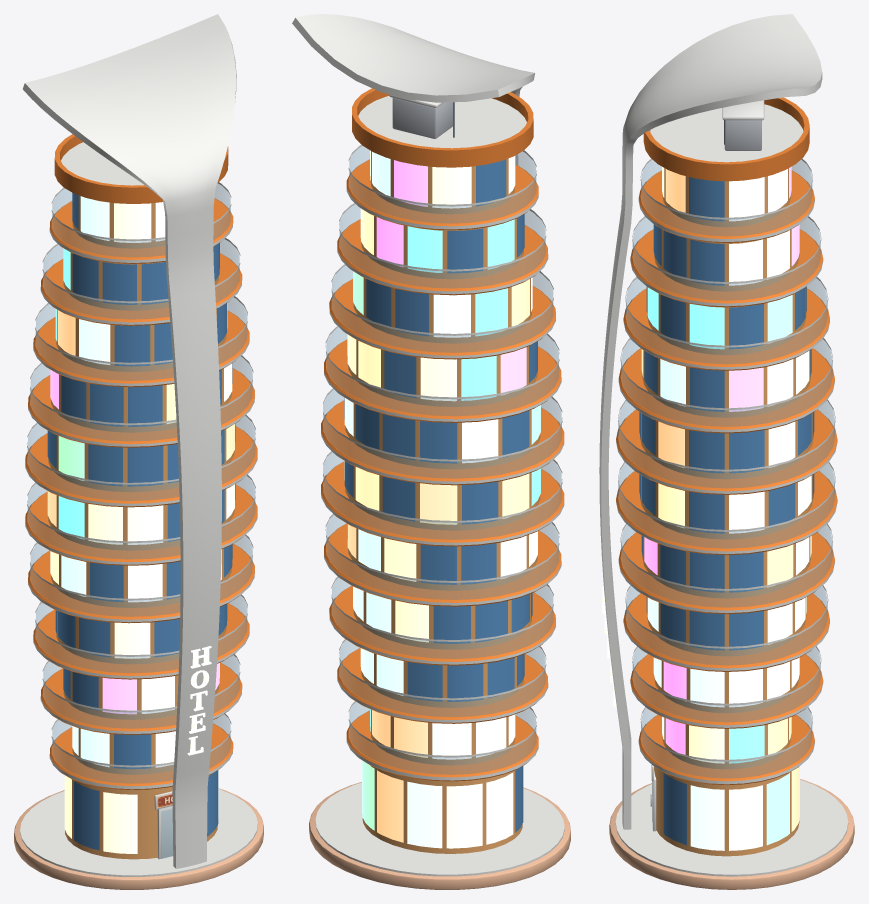
File: torre_vela_laranja.glb
3 views of the same model, side by side, from view 1: azimuth 30°, elevation 25°; view 2: azimuth 150°, elevation 25°; view 3: azimuth 270°, elevation 25° (orthographic). The views are drawn at different scales.
Visible parts, largest first — view 1: torre_vela_laranja; view 2: torre_vela_laranja; view 3: torre_vela_laranja.
Boxes of the visible parts, bbox=[...] form: torre_vela_laranja: bbox=[14, 14, 263, 889]; torre_vela_laranja: bbox=[292, 14, 570, 889]; torre_vela_laranja: bbox=[599, 14, 854, 889].
Bounding box in the file's own units: 12.68 × 42.56 × 12.28.
11 materials, 2 textured.
